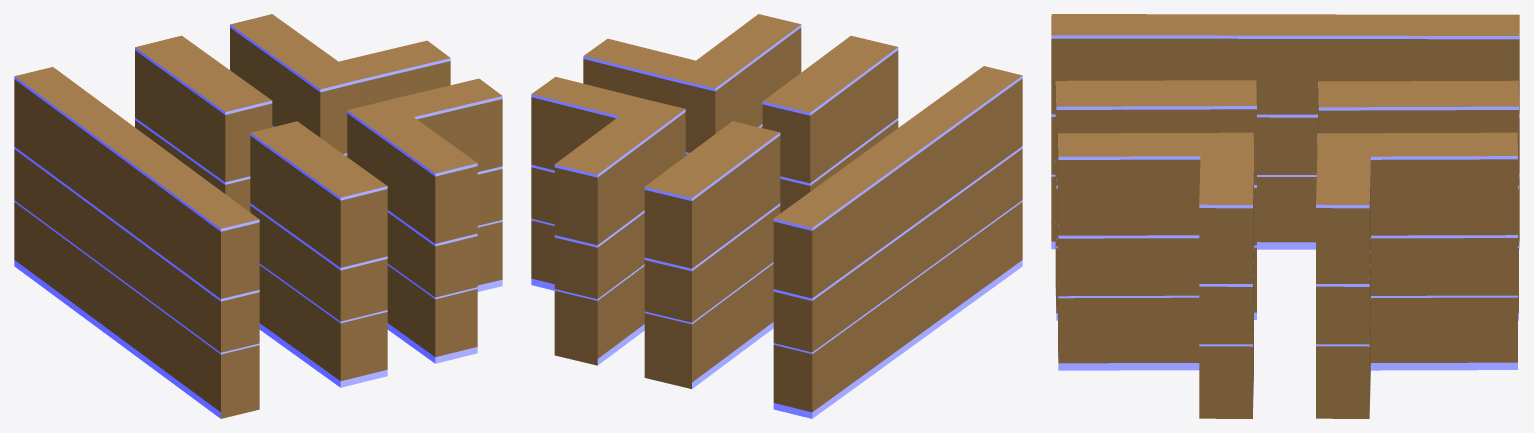
Rendered from mapa1.glb.
3 renders of one model, left to right at view 1: azimuth 30°, elevation 25°; view 2: azimuth 150°, elevation 25°; view 3: azimuth 270°, elevation 25°, orthographic. The views are drawn at different scales.
Parts seen in each view (by area): view 1: wall_1_, wall_1_.006, wall_1_.001, wall_1_.005, wall_1_.004, wall_1_.003, wall_1_.002; view 2: wall_1_, wall_1_.005, wall_1_.004, wall_1_.006, wall_1_.001, wall_1_.002, wall_1_.003; view 3: wall_1_, wall_1_.004, wall_1_.001, wall_1_.002, wall_1_.003, wall_1_.006, wall_1_.005.
Part boxes in pixels (x1,y1,x2,y2): wall_1_: (14, 67, 259, 418); wall_1_.006: (250, 121, 387, 387); wall_1_.001: (347, 100, 477, 363); wall_1_.005: (135, 35, 272, 212); wall_1_.004: (230, 14, 362, 156); wall_1_.003: (390, 78, 502, 291); wall_1_.002: (339, 40, 450, 106); wall_1_: (773, 66, 1022, 418); wall_1_.005: (644, 121, 780, 388); wall_1_.004: (554, 98, 685, 365); wall_1_.006: (762, 35, 898, 213); wall_1_.001: (673, 14, 801, 155); wall_1_.002: (531, 77, 642, 290); wall_1_.003: (583, 38, 695, 105); wall_1_: (1051, 14, 1519, 249); wall_1_.004: (1317, 132, 1517, 370); wall_1_.001: (1058, 132, 1253, 370); wall_1_.002: (1316, 155, 1370, 418); wall_1_.003: (1199, 156, 1253, 418); wall_1_.006: (1055, 80, 1256, 320); wall_1_.005: (1318, 80, 1518, 320).
Size of what is drawn, in the model's own units: 30.64 by 16 by 31.74.
